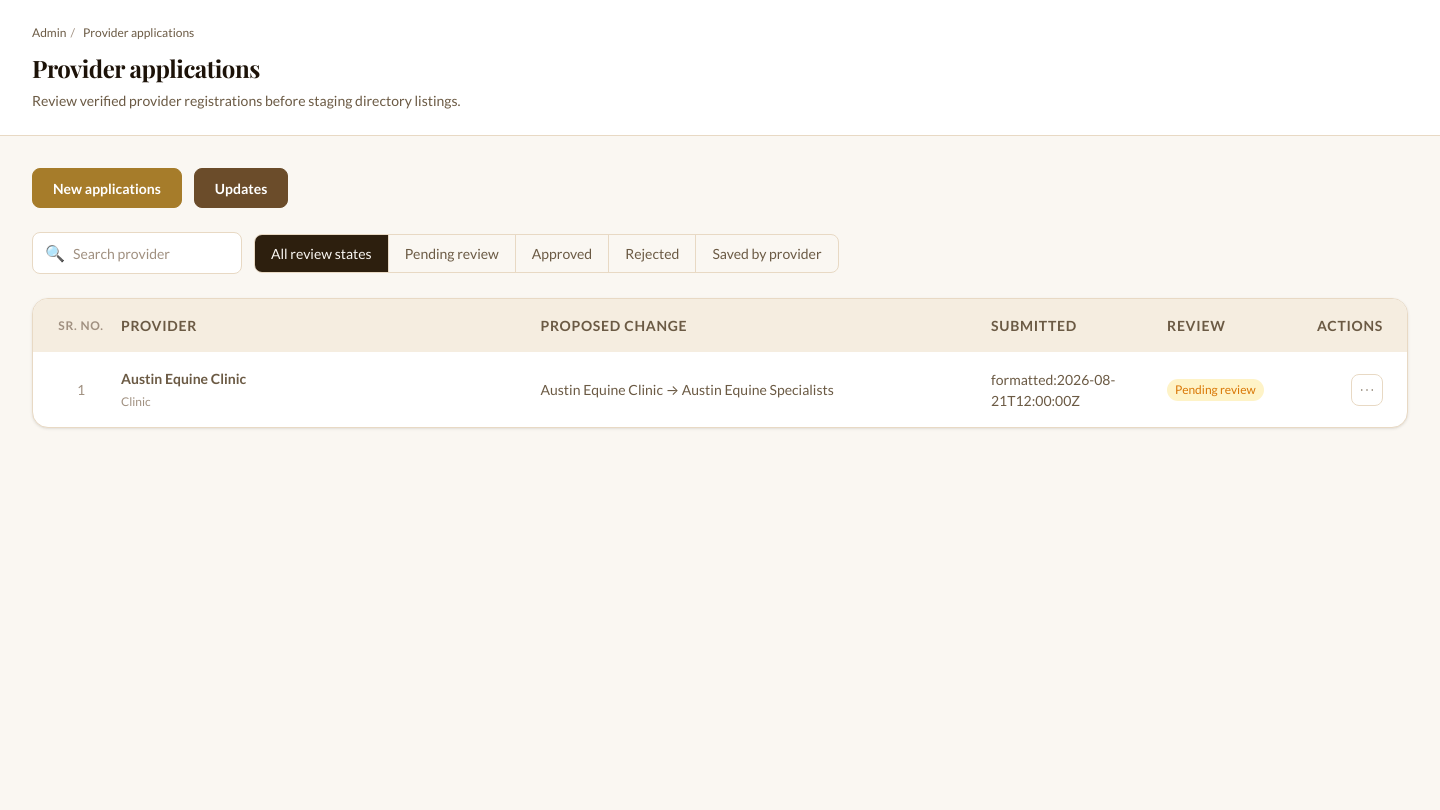
Test case: ProviderApplicationsPage › shows proposed visit additions as inclusive calendar dates with complete location snapshots
Step 1. Click the button named "Actions for Austin Equine Clinic update" → {"x": 1367, "y": 390}, box [1351,374,1383,406]
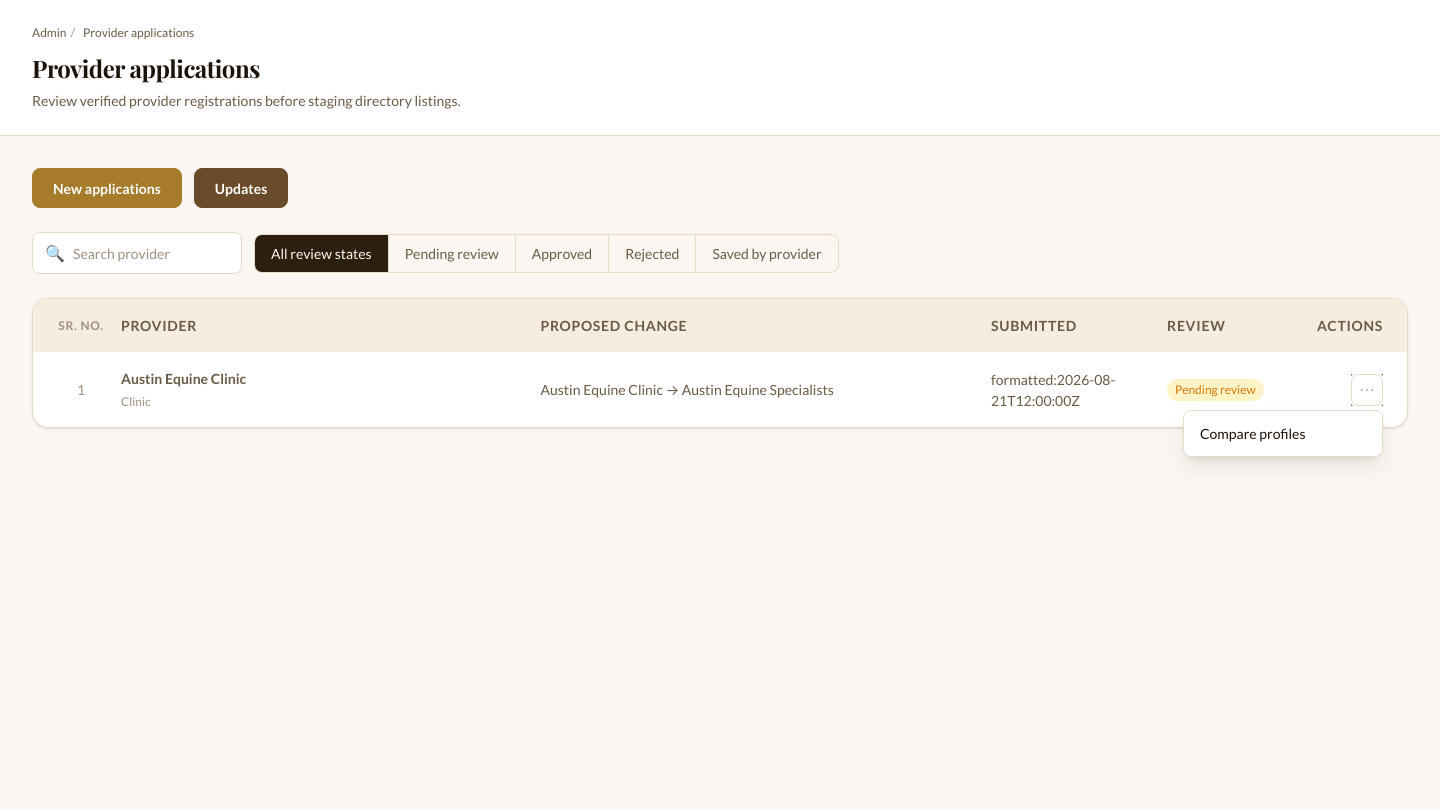
Step 2. Click the menu item "Compare profiles" → {"x": 1283, "y": 433}, box [1188,414,1378,452]
(page scrolled)
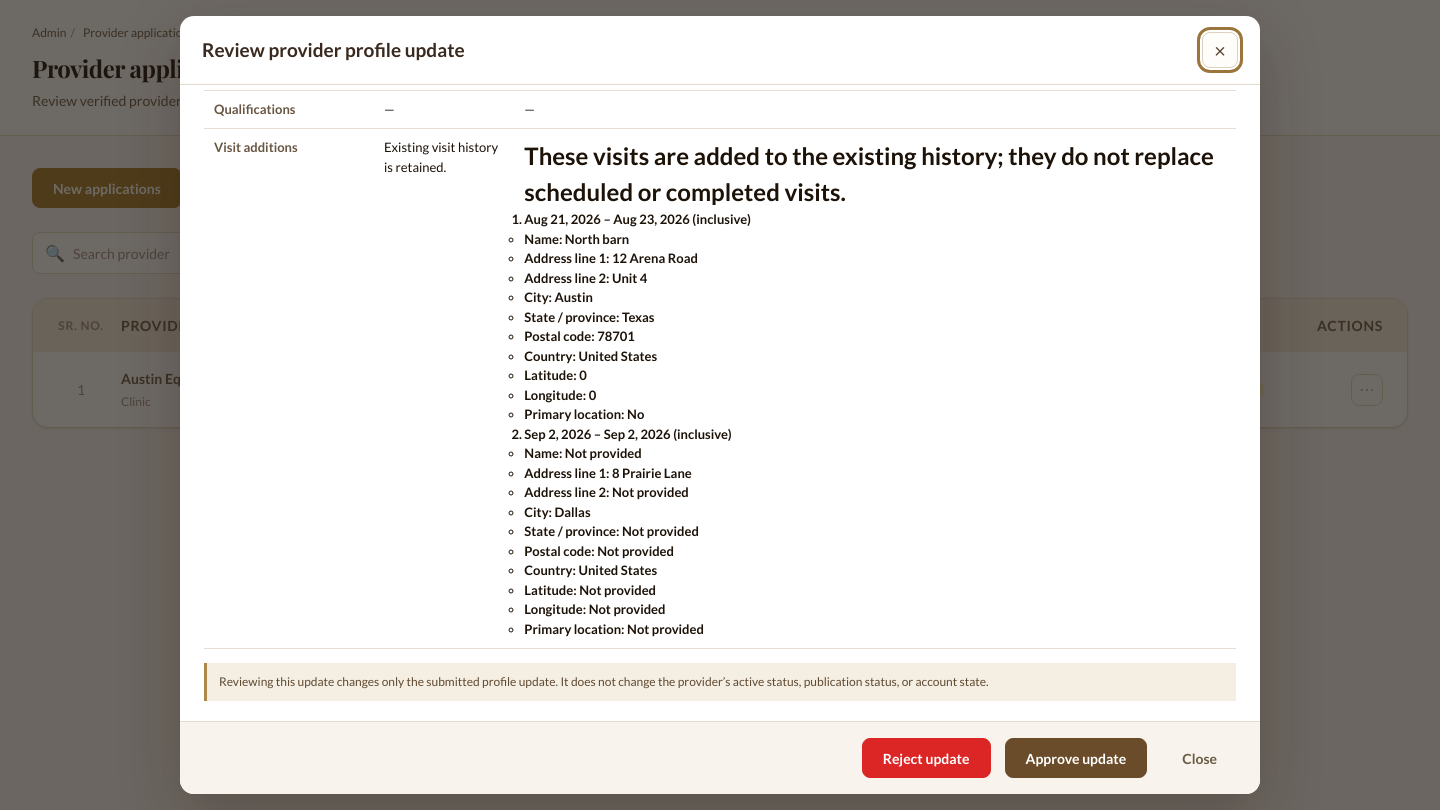
Now the text "Existing visit history is retained." is shown, box [374,128,514,648]
Now the text "added to the existing history; they do not replace scheduled or completed visits" is shown, box [524,141,1218,206]
Now the text "Aug 21, 2026 – Aug 23, 2026 (inclusive)" is shown, box [524,211,751,227]
